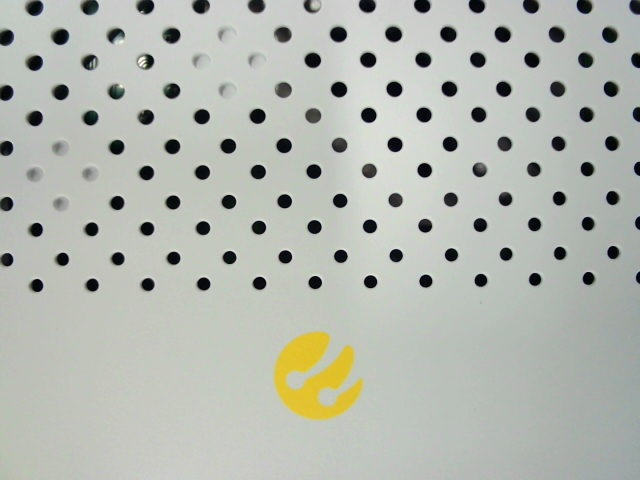AV_H3600Yellow: (251, 321, 388, 431)
